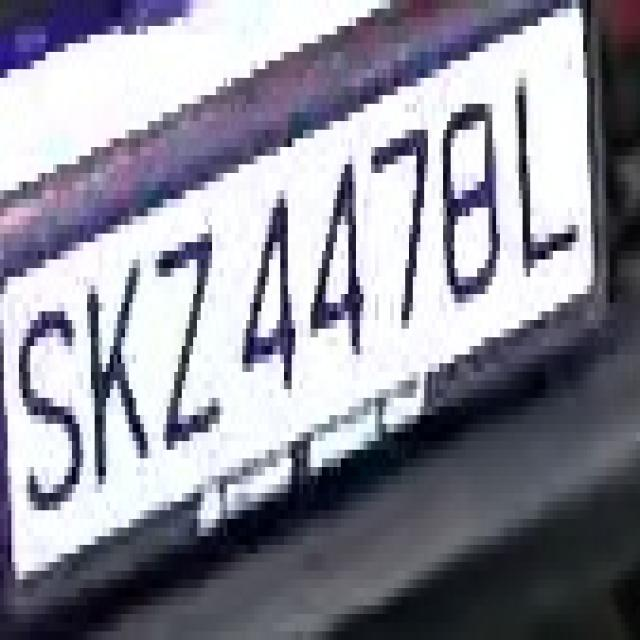4: (292, 130, 371, 398), (235, 156, 295, 432)
7: (352, 95, 439, 355)
8: (421, 78, 512, 354)
K: (76, 234, 144, 502)
L: (507, 60, 587, 302)
S: (8, 276, 83, 554)
Z: (140, 208, 220, 476)
